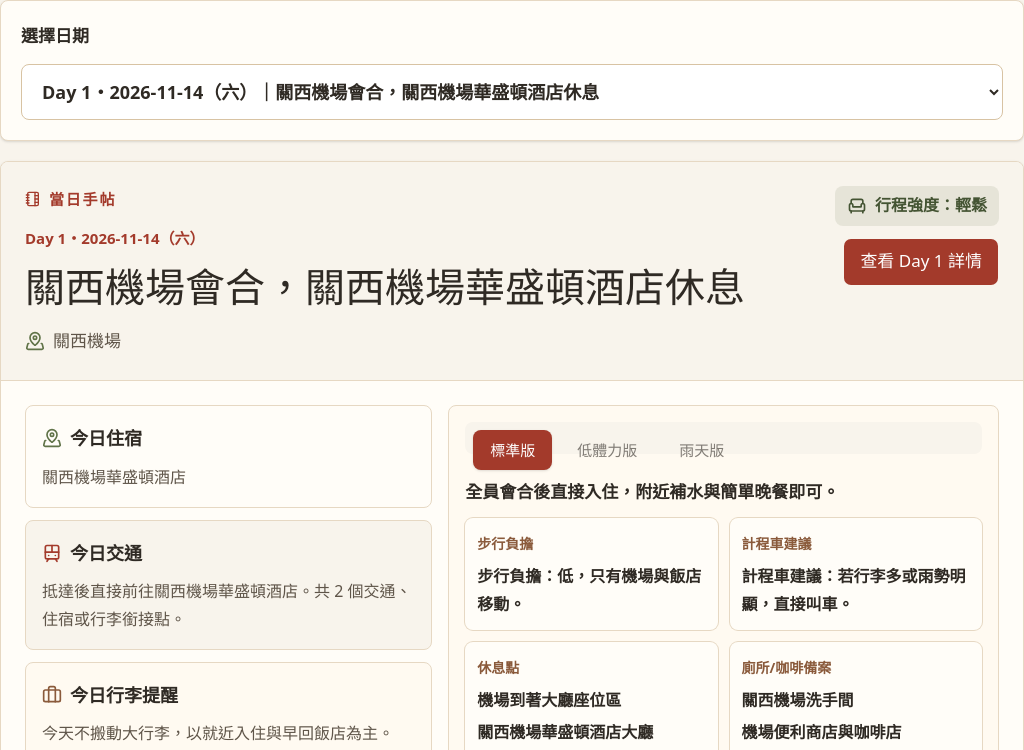
homepage components › shows only the selected day in the itinerary dropdown
Expected: the heading "關西機場會合，關西機場華盛頓酒店休息" is shown, [25, 264, 815, 314]
Expected: the text "京都慢啟動，東寺與伏見稻荷" is not shown
Select "Day 2・2026-11-15（日）｜京都慢啟動，東寺與伏見稻荷" in the dropdown labelled "選擇日期": (512, 92) [21, 64, 1003, 120]
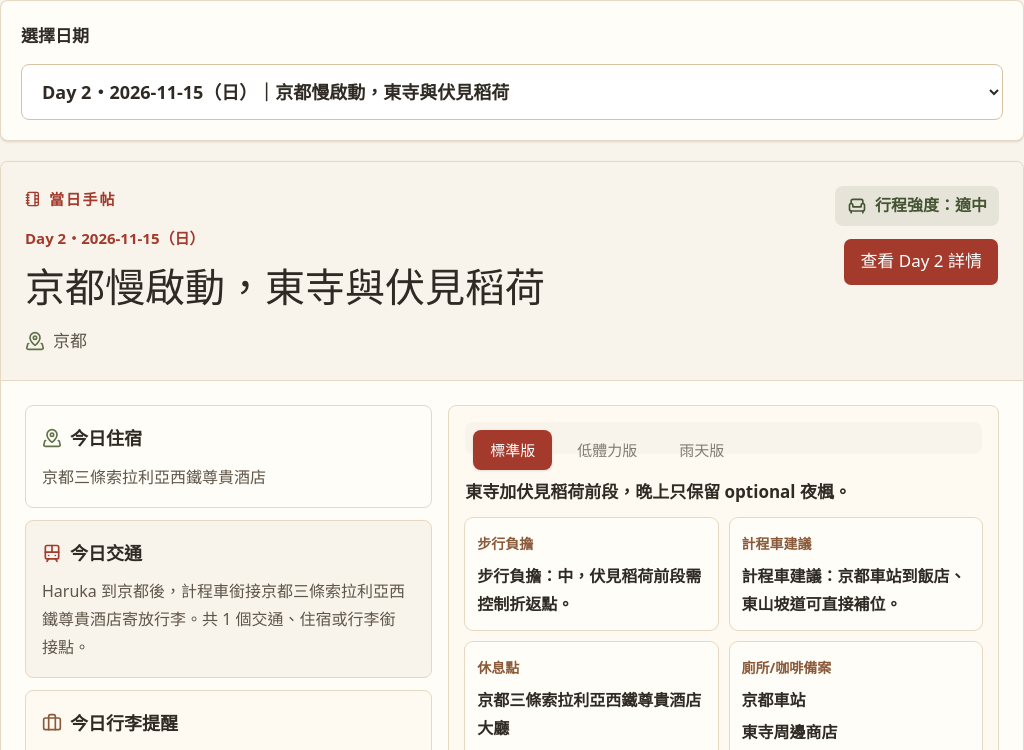
Expected: the heading "京都慢啟動，東寺與伏見稻荷" is shown, [25, 266, 545, 311]
Expected: the heading "關西機場會合，關西機場華盛頓酒店休息" is gone
